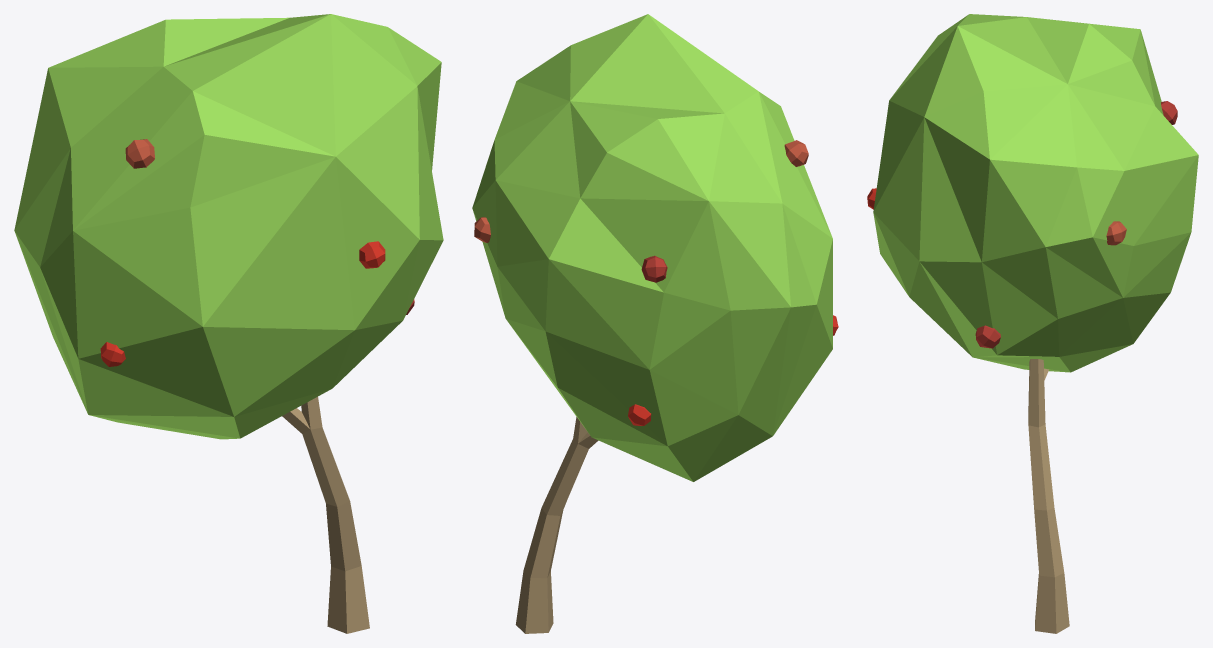
File: Apple_Tree_Apples_m_05_LOD.fbx
3 renders of one model, left to right at view 1: azimuth 30°, elevation 25°; view 2: azimuth 150°, elevation 25°; view 3: azimuth 270°, elevation 25°, orthographic. The views are drawn at different scales.
Visible parts, largest first — view 1: Apple_Tree_Apples_m_05_LOD0; view 2: Apple_Tree_Apples_m_05_LOD0; view 3: Apple_Tree_Apples_m_05_LOD0.
Boxes of the visible parts, x1,y1,x2,y2 form: Apple_Tree_Apples_m_05_LOD0: [14, 14, 443, 633]; Apple_Tree_Apples_m_05_LOD0: [472, 14, 838, 633]; Apple_Tree_Apples_m_05_LOD0: [867, 14, 1198, 633].
Size of what is drawn, in the model's own units: 436 by 752 by 396.
